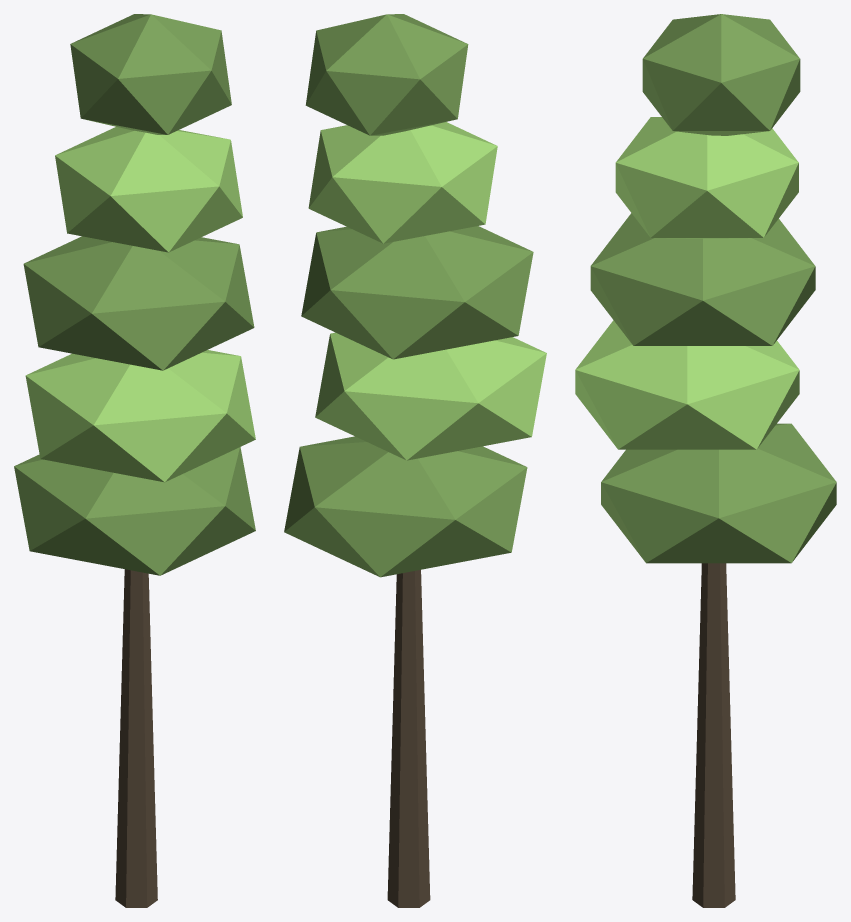
File: columnar-v1-spring.glb
The picture shows the model from 3 angles, left to right: view 1: azimuth 30°, elevation 25°; view 2: azimuth 150°, elevation 25°; view 3: azimuth 270°, elevation 25°; orthographic projection.
Visible parts, largest first — view 1: columnar_v1; view 2: columnar_v1; view 3: columnar_v1.
Part boxes in pixels (left/top/right/bottom): columnar_v1: left=14, top=14, right=255, bottom=907; columnar_v1: left=284, top=14, right=546, bottom=907; columnar_v1: left=575, top=14, right=836, bottom=907.
Size of what is drawn, in the model's own units: 2.81 by 10.96 by 2.9.
